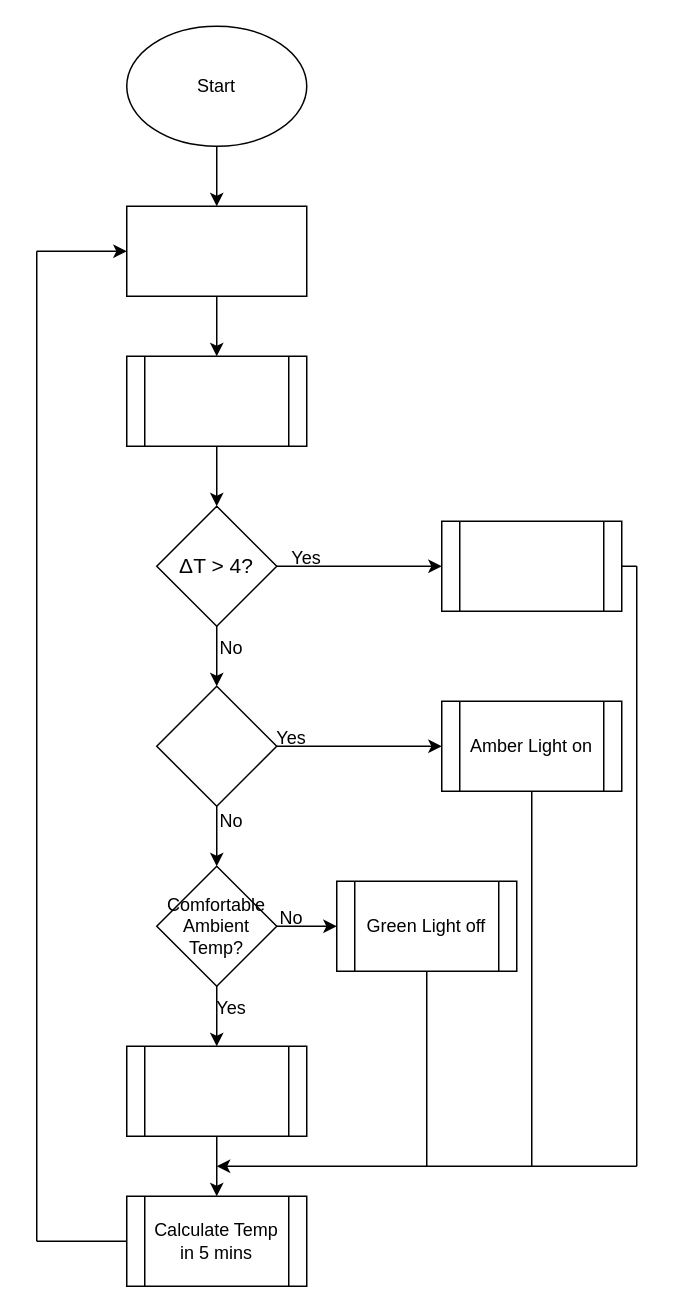
Image size: 675x1313. Some labels were removed from this diagram. The centre of each missing label's shape, as x and y in pixels:
Check Change in Temp: (216,400)
Green Light on: (216,1090)
Measure Temperature: (216,250)
Red Light on: (531,565)
